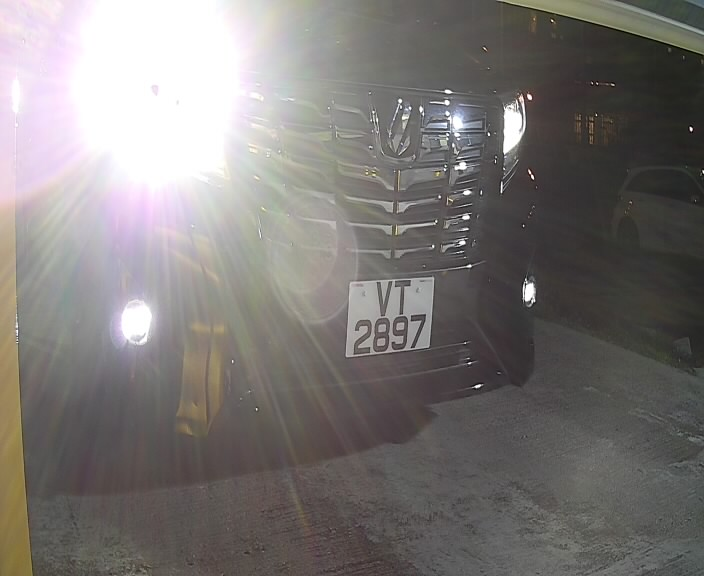License Plate: (338, 267, 449, 366)
